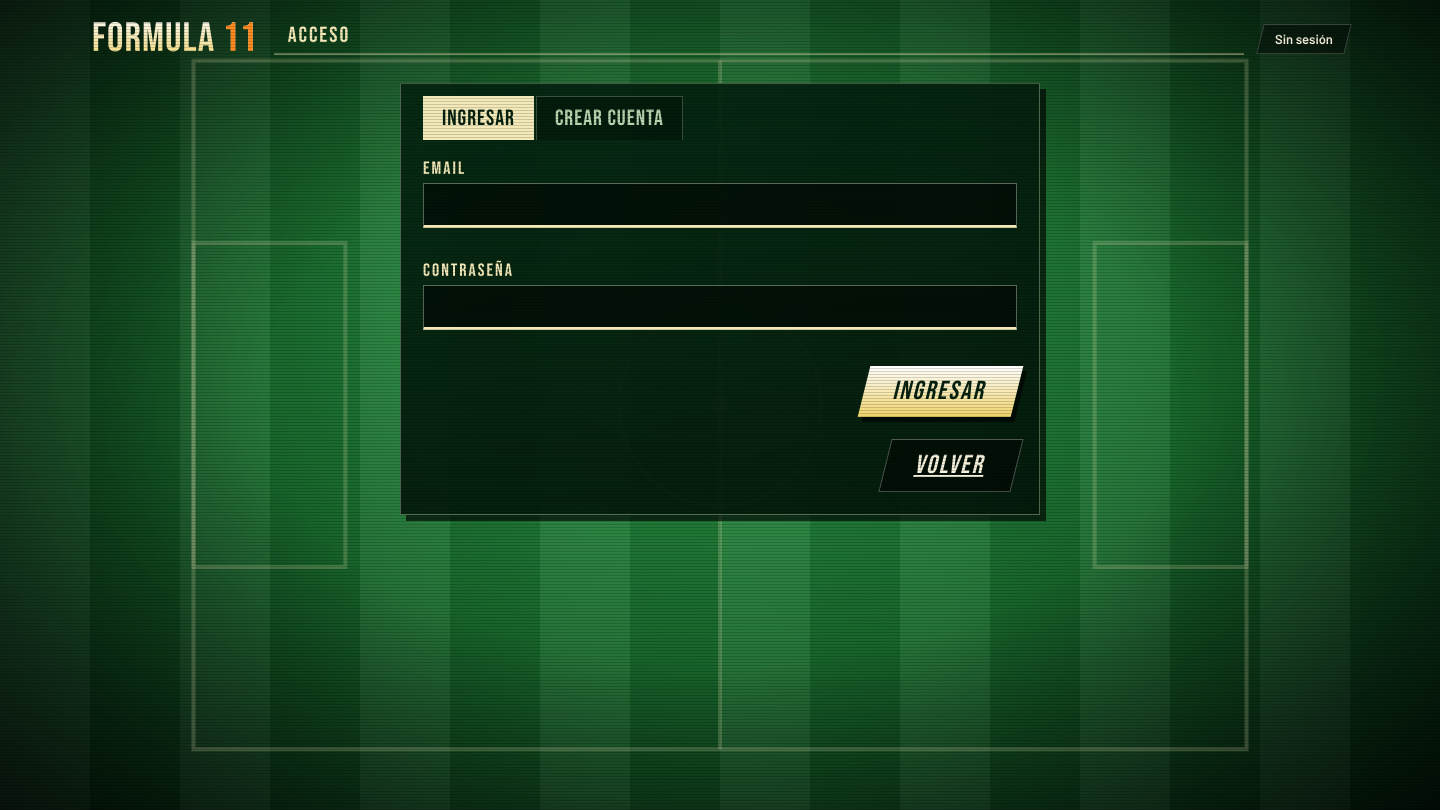
Scenario: ingreso › inicia sesión, mantiene la cuenta y no muestra el token
Type "ana@example.com" into the field labelled "Email" at (720,206), box [423,183,1017,228]
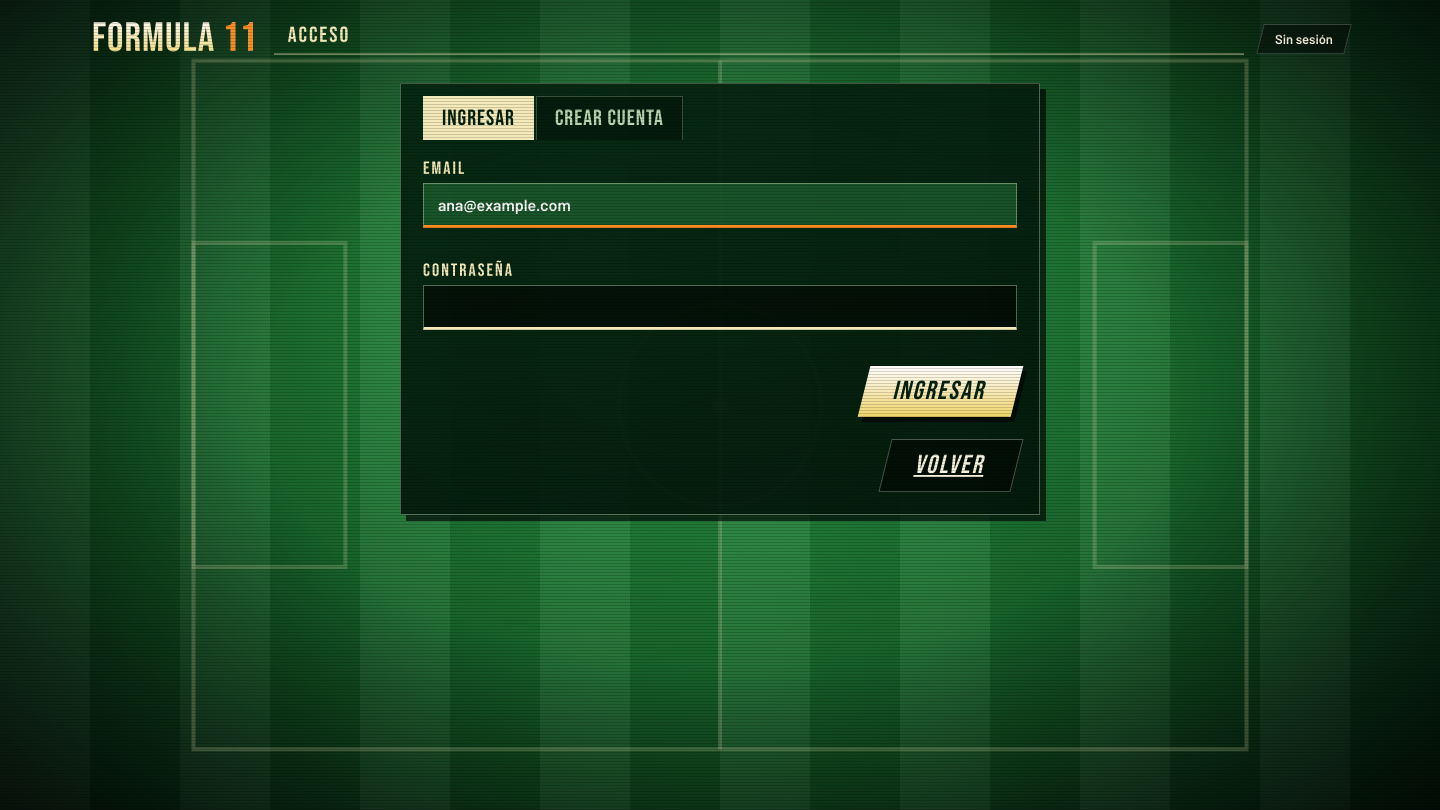
Type "Secreto123!" into the password field labelled "Contraseña" at (720,308), box [423,285,1017,330]
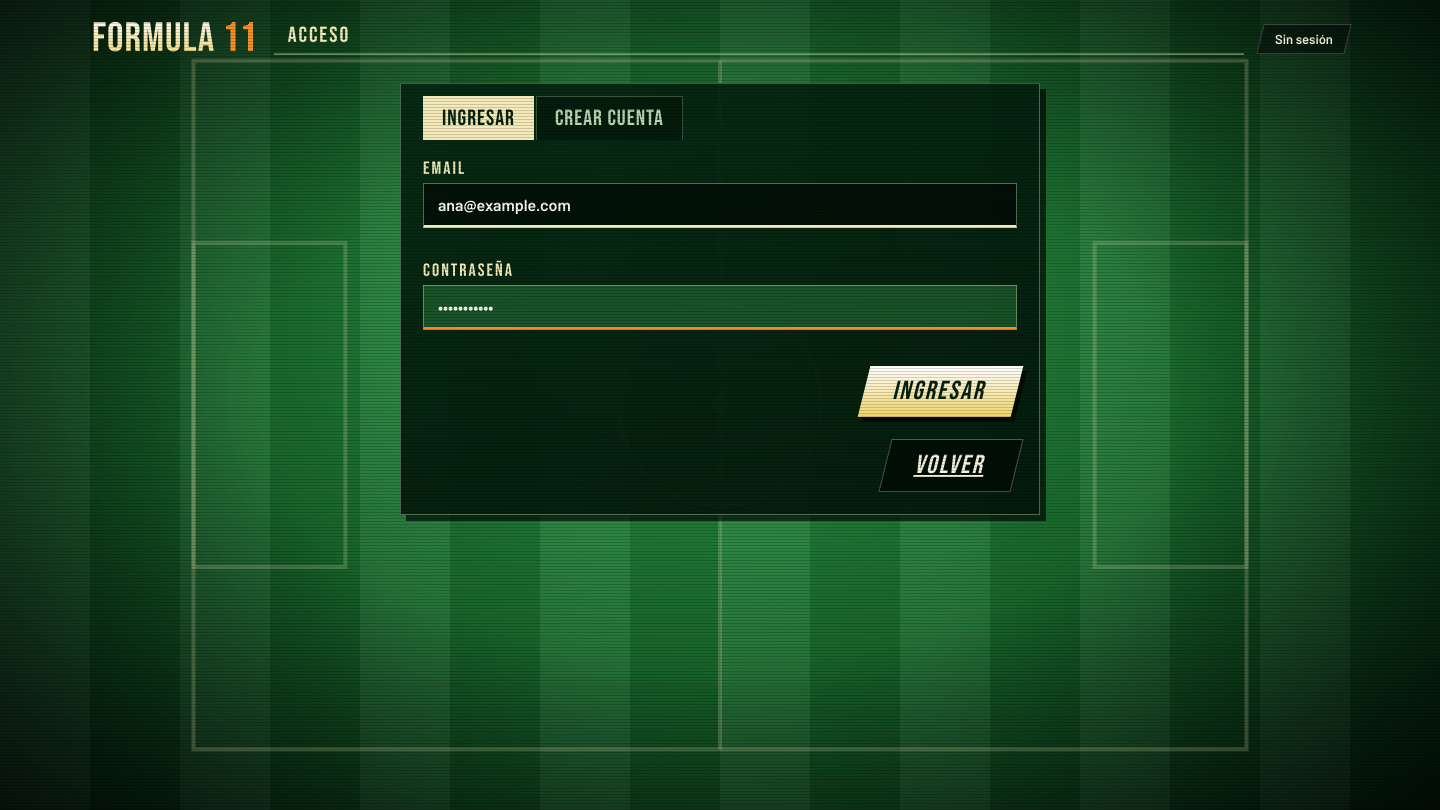
Click the button "Ingresar" at (941,392), box [858,366,1023,417]
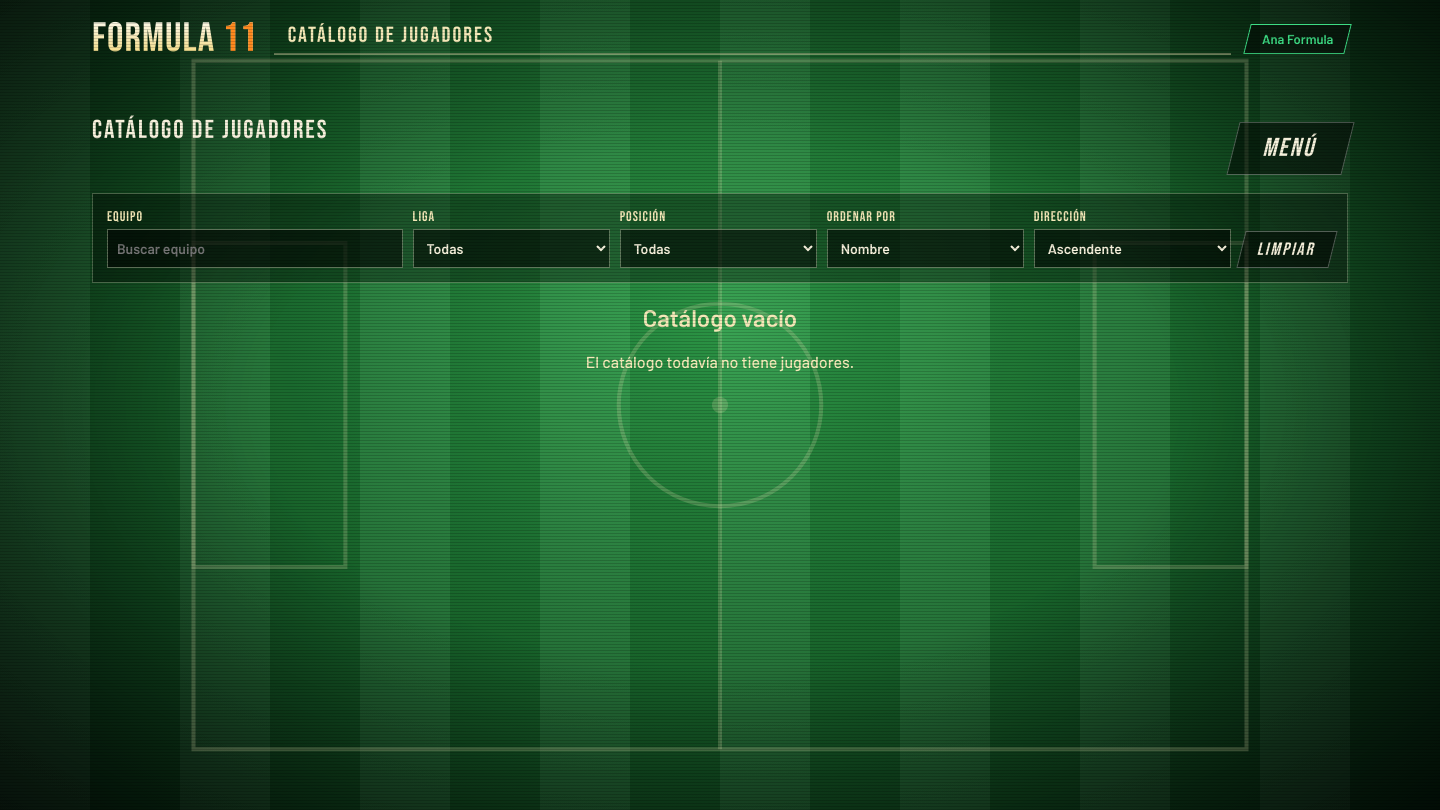
Expected: the heading "Catálogo vacío" is shown, [643,303,797,332]
Expected: the text "Ana Formula" is shown, [1262,30,1333,46]
